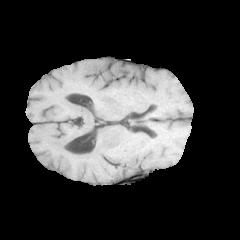glioma: (96, 152, 158, 183)
